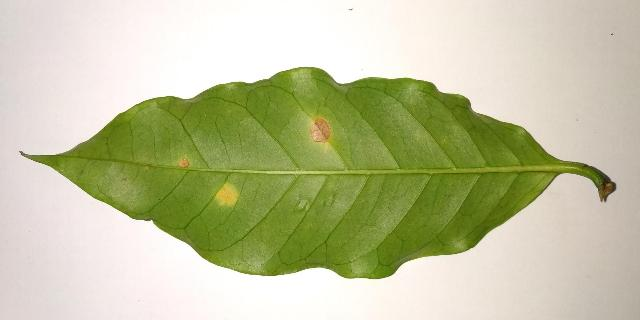cercospora: (215, 183, 238, 206), (311, 118, 331, 143), (179, 159, 189, 167)
